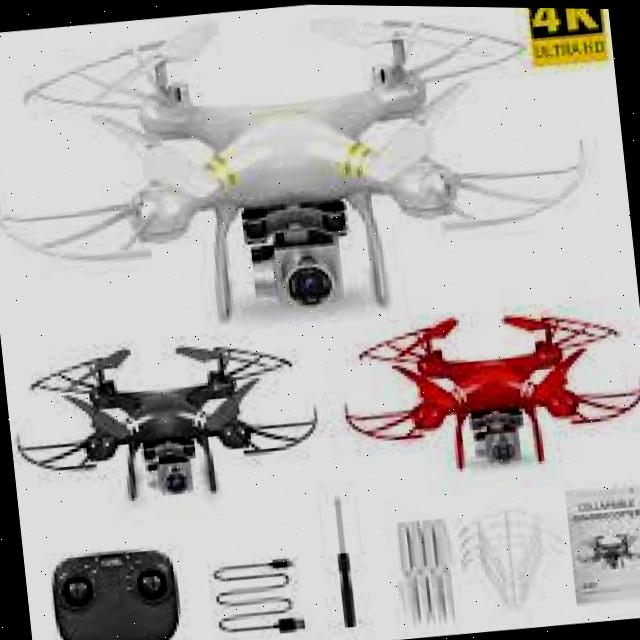drone: (0, 4, 577, 349), (10, 308, 325, 528), (330, 281, 640, 495)
